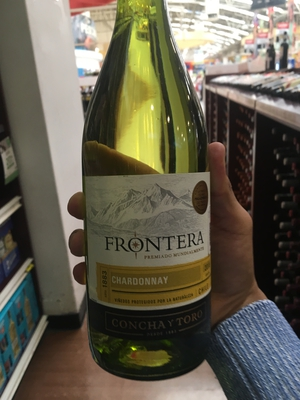frontera chardonnay: (75, 17, 210, 377)
